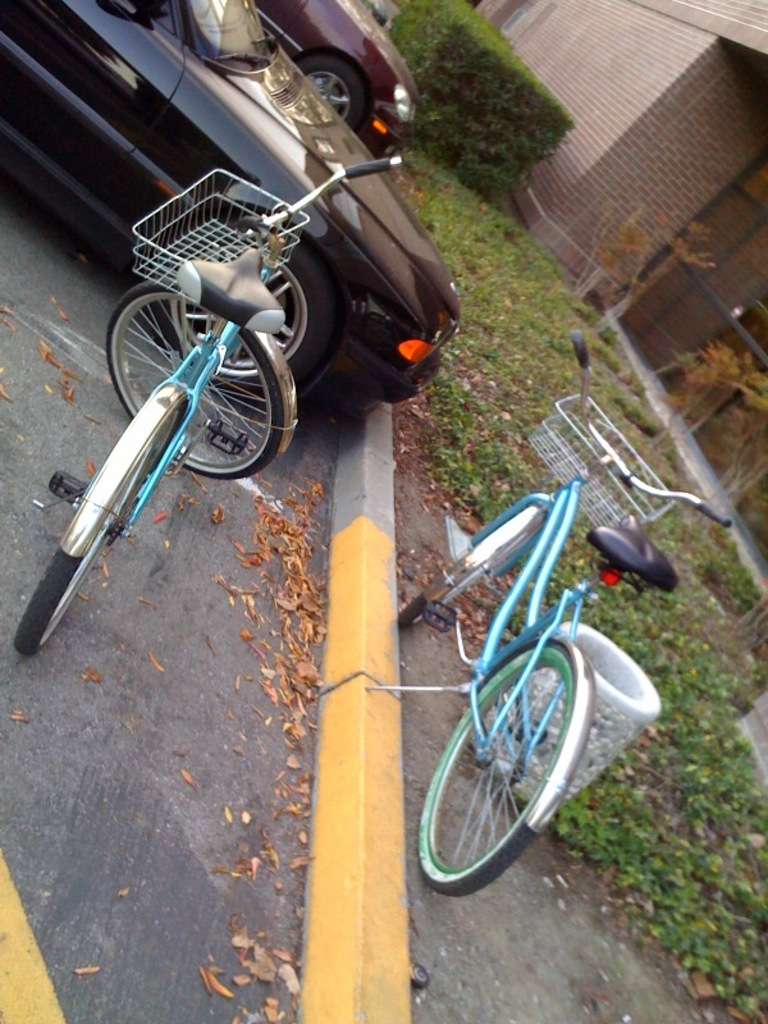Car: (0, 0, 468, 412), (257, 0, 414, 161)
